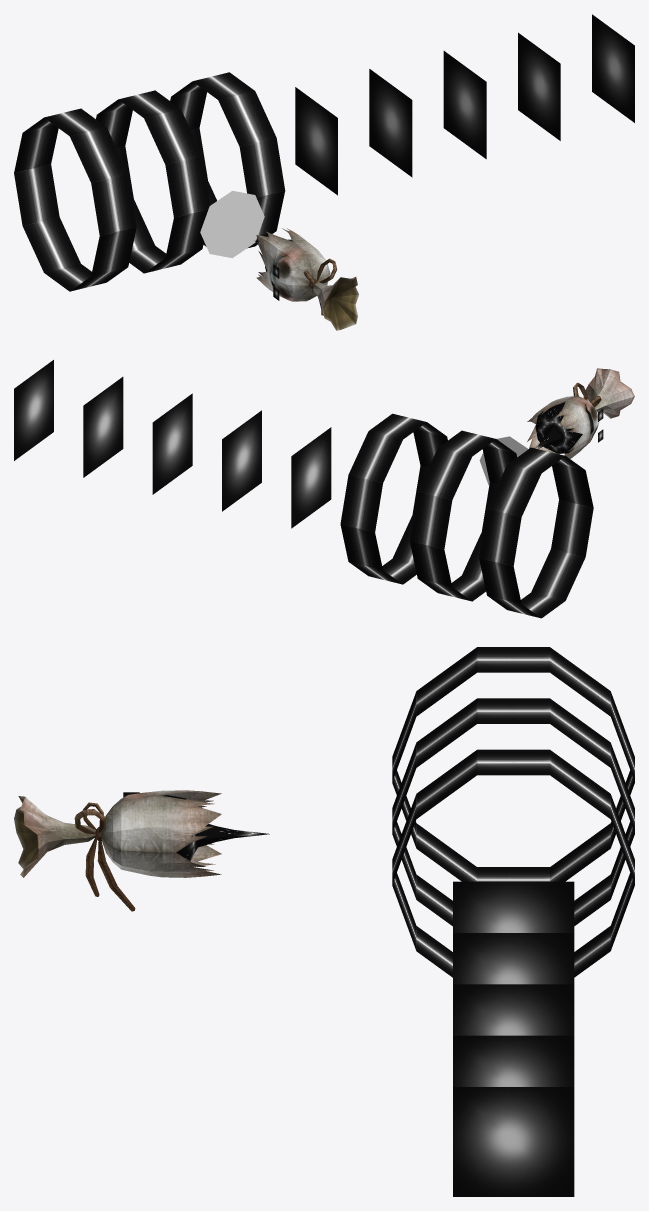
The picture shows the model from 3 angles, top to bottom: view 1: azimuth 30°, elevation 25°; view 2: azimuth 150°, elevation 25°; view 3: azimuth 270°, elevation 25°; orthographic projection. The views are drawn at different scales.
Visible parts, largest first — view 1: M_0031_0, M_0031_1; view 2: M_0031_0, M_0031_1; view 3: M_0031_0, M_0031_1.
Boxes of the visible parts, x1,y1,x2,y2 form: M_0031_0: (14,14,634,300); M_0031_1: (256,228,358,330); M_0031_0: (14,360,603,618); M_0031_1: (527,368,634,458); M_0031_0: (123,647,634,1196); M_0031_1: (14,790,221,911).
Bounding box in the file's own units: 13.5 × 3.6 × 9.21.
2 materials, 2 textured.
